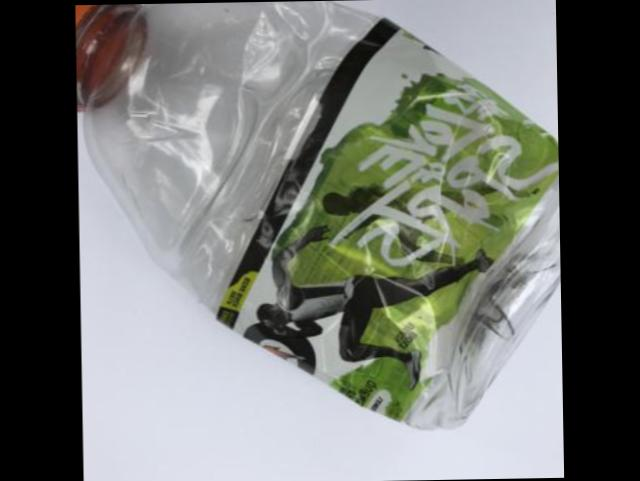plastic: (75, 0, 561, 428)
